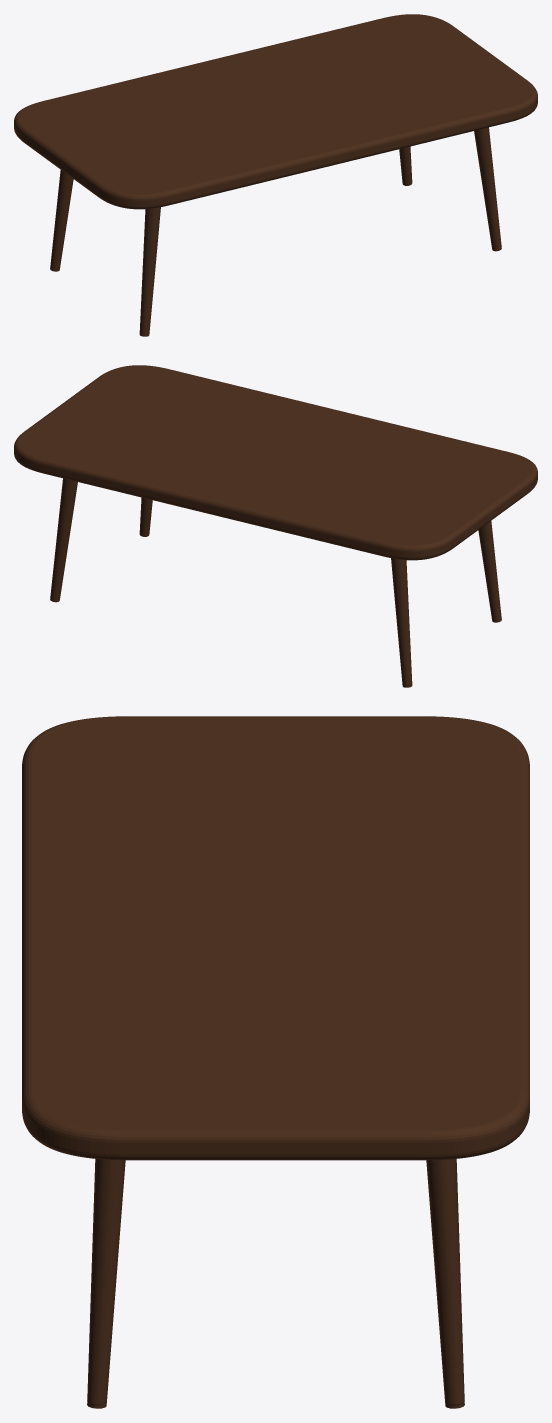
Rendered from coffee_table.glb.
The picture shows the model from 3 angles, top to bottom: view 1: azimuth 30°, elevation 25°; view 2: azimuth 150°, elevation 25°; view 3: azimuth 270°, elevation 25°; orthographic projection. The views are drawn at different scales.
Size of the model in its own units: 1.22 by 0.4214 by 0.624.
